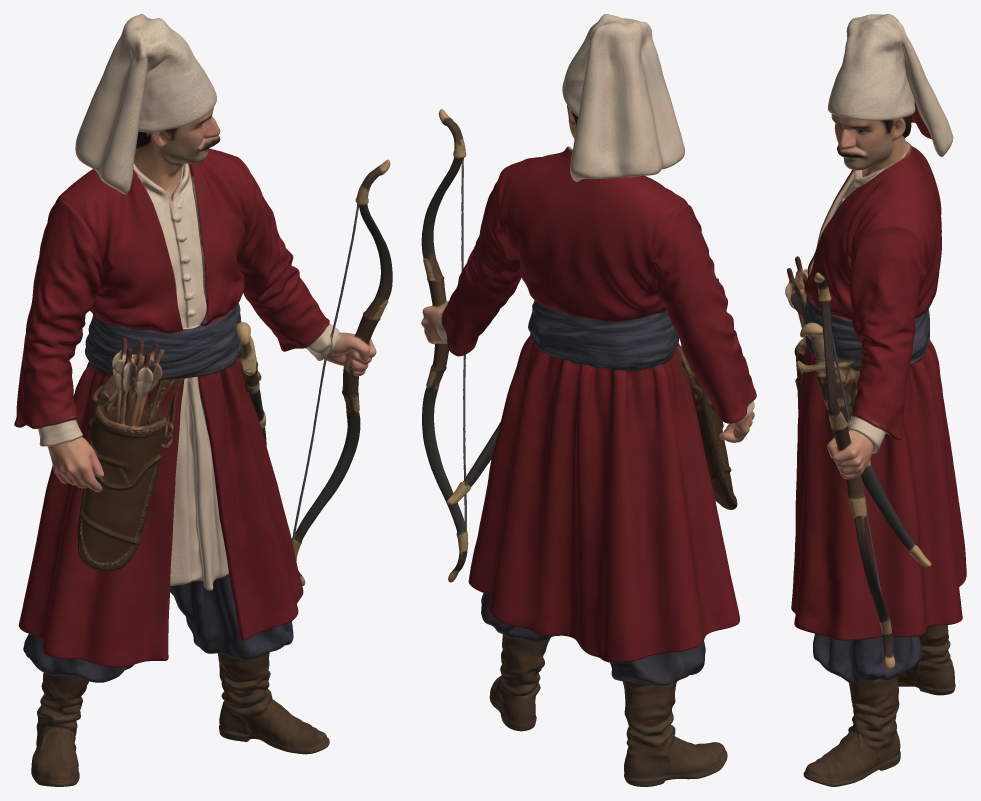
The model's file is yeniceri-erken-okcu-1470-1500-tripo-v1.glb.
3 views of the same model, side by side, from view 1: azimuth 30°, elevation 25°; view 2: azimuth 150°, elevation 25°; view 3: azimuth 270°, elevation 25° (orthographic). The views are drawn at different scales.
Visible parts, largest first — view 1: tripo_node_ac6708d2-1d8e-4196-bd06-0e709674e99a; view 2: tripo_node_ac6708d2-1d8e-4196-bd06-0e709674e99a; view 3: tripo_node_ac6708d2-1d8e-4196-bd06-0e709674e99a.
Part boxes in pixels (x1,y1,x2,y2): tripo_node_ac6708d2-1d8e-4196-bd06-0e709674e99a: [14, 14, 392, 786]; tripo_node_ac6708d2-1d8e-4196-bd06-0e709674e99a: [421, 14, 756, 786]; tripo_node_ac6708d2-1d8e-4196-bd06-0e709674e99a: [785, 14, 966, 786].
Size of the model in its own units: 0.4975 by 1 by 0.2348.
1 material, 1 textured.
